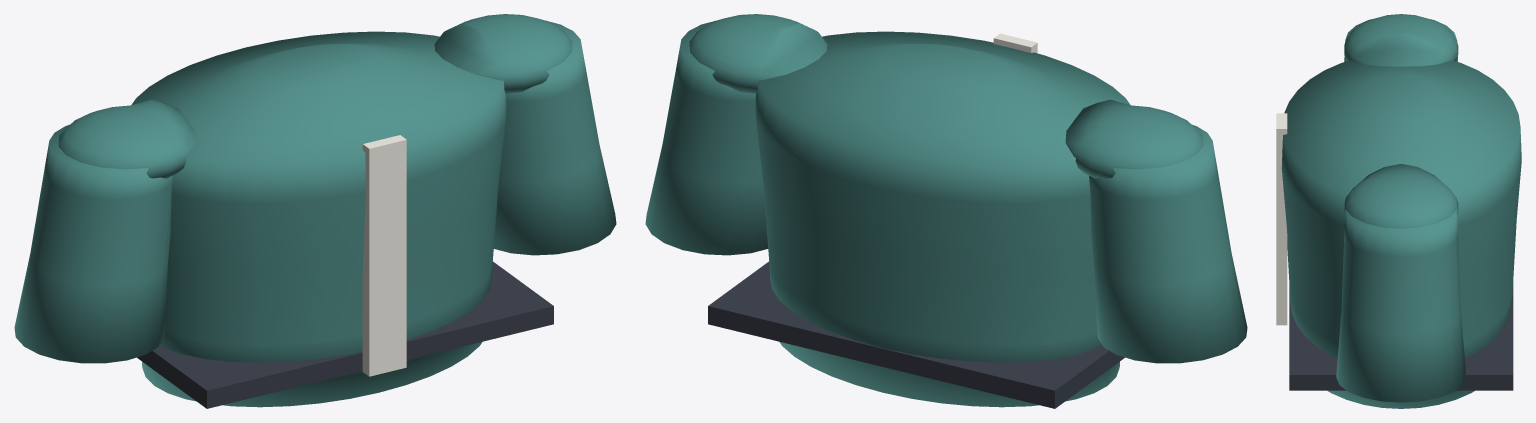
Rendered from top_ancient_0.glb.
The picture shows the model from 3 angles, left to right: view 1: azimuth 30°, elevation 25°; view 2: azimuth 150°, elevation 25°; view 3: azimuth 270°, elevation 25°; orthographic projection. The views are drawn at different scales.
Size of the model in its own units: 0.6956 by 0.3212 by 0.2948.
